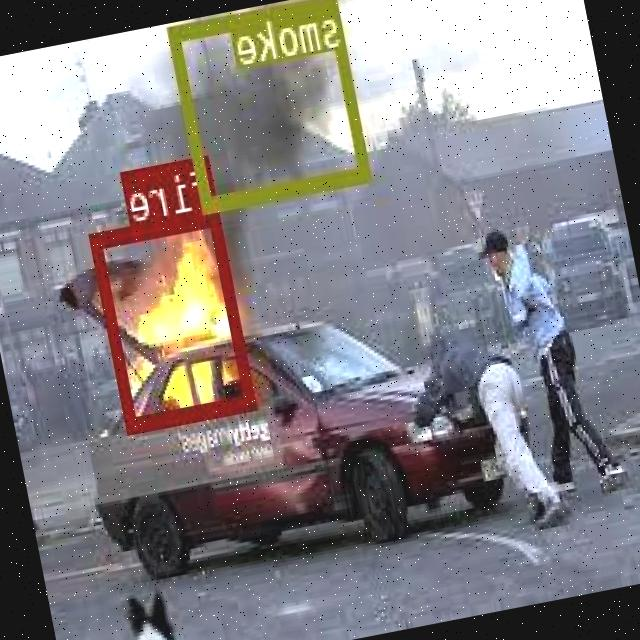fire: (90, 206, 258, 432)
smoke: (169, 0, 373, 210)
